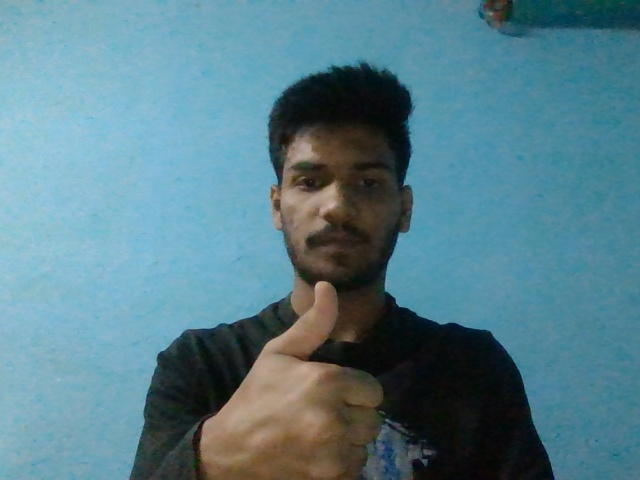ThumbsUp: (220, 280, 385, 480)
